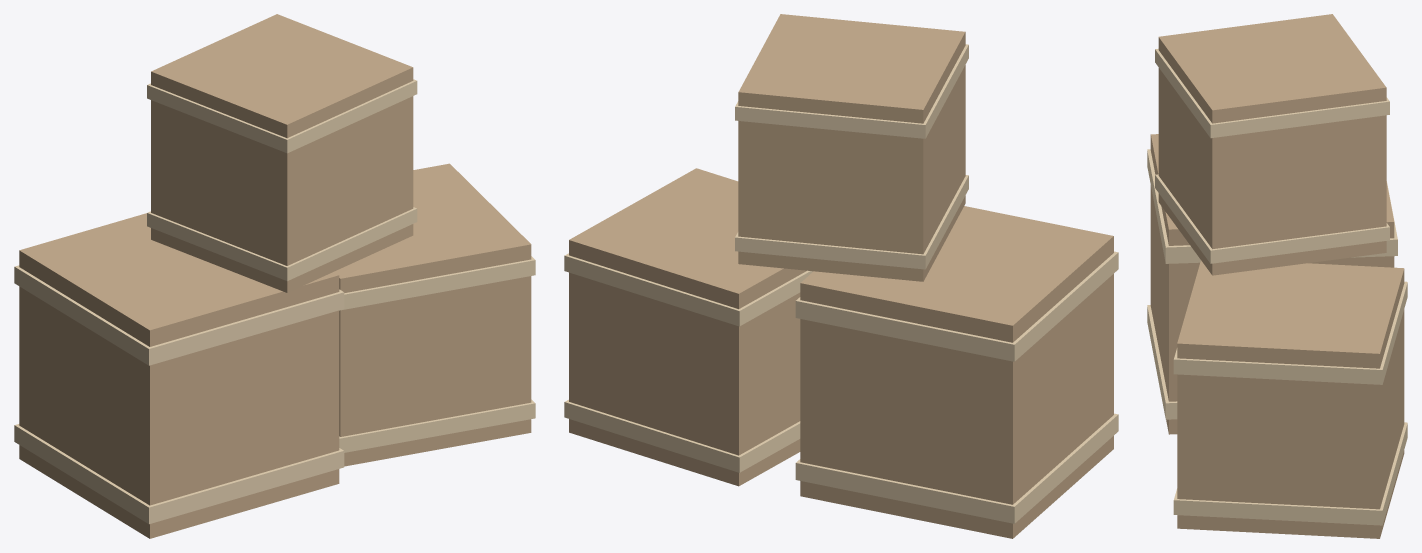
File: crate-stack.glb
3 views of the same model, side by side, from view 1: azimuth 30°, elevation 25°; view 2: azimuth 150°, elevation 25°; view 3: azimuth 270°, elevation 25° (orthographic). The views are drawn at different scales.
Visible parts, largest first — view 1: crate-stack; view 2: crate-stack; view 3: crate-stack.
Part boxes in pixels (box(x1,y1,x2,y2)): crate-stack: box(14, 14, 535, 538); crate-stack: box(564, 14, 1118, 538); crate-stack: box(1147, 14, 1407, 538).
Bounding box in the file's own units: 1.36 × 1.12 × 0.7146.
